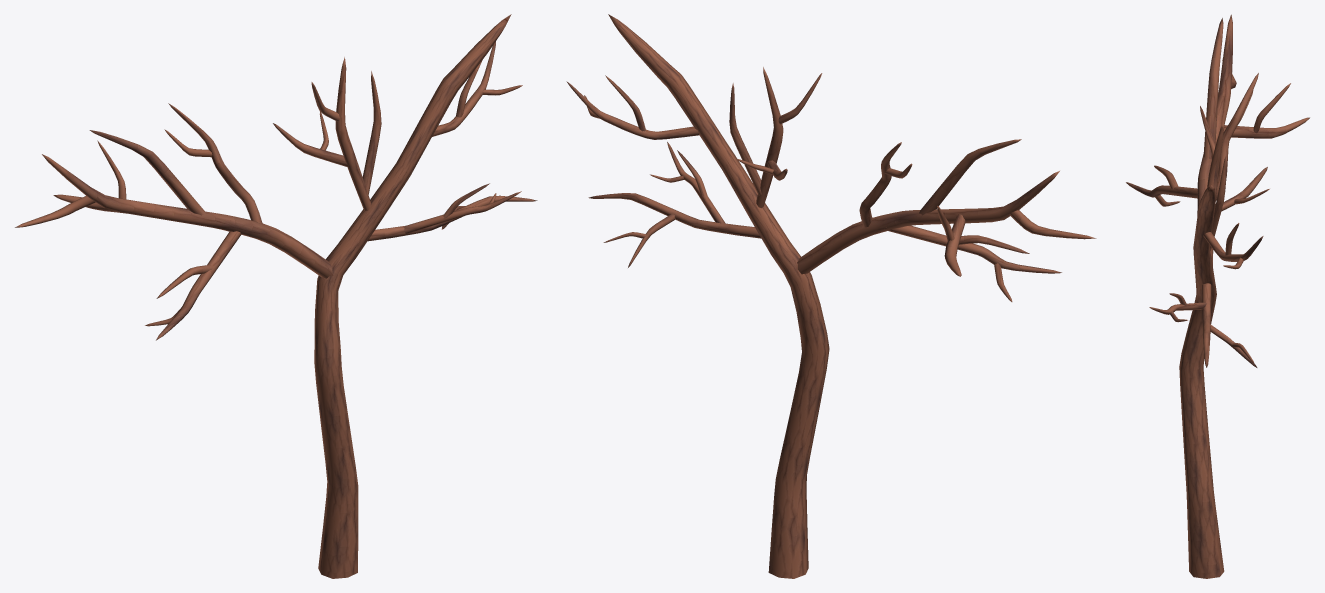
The model's file is DeadTree_4.glb.
3 renders of one model, left to right at view 1: azimuth 30°, elevation 25°; view 2: azimuth 150°, elevation 25°; view 3: azimuth 270°, elevation 25°, orthographic. The views are drawn at different scales.
Bounding box in the file's own units: 4.85 × 4.61 × 1.67.
Materials: 1 (1 with a texture image).
